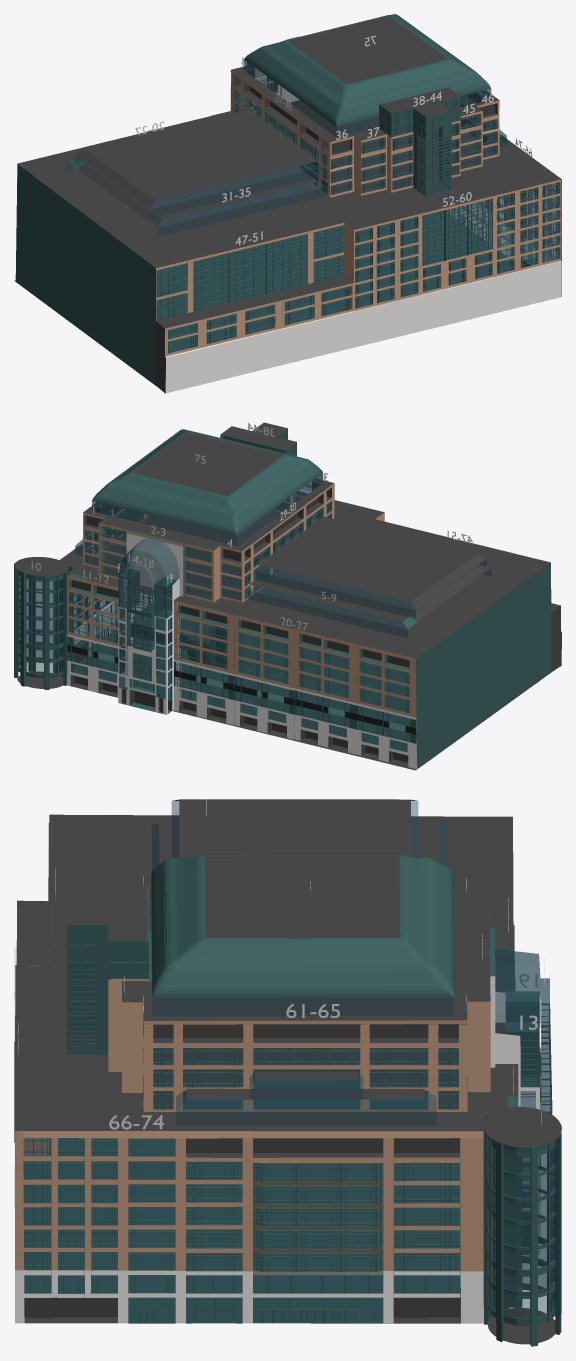
Rendered from 135Bishopsgate.glb.
3 views of the same model, one above another, from view 1: azimuth 30°, elevation 25°; view 2: azimuth 150°, elevation 25°; view 3: azimuth 270°, elevation 25° (orthographic). The views are drawn at different scales.
Parts seen in each view (by area): view 1: Cube.001, Drop75, Drop50, Drop49, Drop48, Drop51, Drop47, Drop34, Drop35, Drop32, Drop31, Drop33 (+13 smaller); view 2: Cube.001, Drop75, Drop10, Drop27, Drop25, Drop23, Drop21, Drop5, Drop12, Drop9, Drop26, Drop11 (+13 smaller); view 3: Cube.001, Drop65, Drop10, Drop75, Drop74, Drop69, Drop70, Drop62, Drop72, Drop71, Drop73, Drop68 (+5 smaller).
Boxes of the visible parts, x1=… form: Cube.001: x1=14, y1=14, x2=561, y2=393; Drop75: x1=243, y1=59, x2=491, y2=137; Drop50: x1=268, y1=234, x2=312, y2=324; Drop49: x1=230, y1=244, x2=274, y2=333; Drop48: x1=193, y1=253, x2=235, y2=343; Drop51: x1=314, y1=225, x2=351, y2=315; Drop47: x1=156, y1=263, x2=197, y2=352; Drop34: x1=248, y1=170, x2=291, y2=212; Drop35: x1=283, y1=163, x2=327, y2=203; Drop32: x1=183, y1=186, x2=224, y2=228; Drop31: x1=150, y1=194, x2=190, y2=236; Drop33: x1=216, y1=178, x2=256, y2=220; Cube.001: x1=14, y1=422, x2=561, y2=770; Drop75: x1=92, y1=473, x2=323, y2=545; Drop10: x1=19, y1=576, x2=62, y2=673; Drop27: x1=384, y1=667, x2=409, y2=751; Drop25: x1=324, y1=653, x2=349, y2=737; Drop23: x1=263, y1=638, x2=288, y2=722; Drop21: x1=202, y1=624, x2=227, y2=707; Drop5: x1=248, y1=567, x2=295, y2=608; Drop12: x1=93, y1=598, x2=117, y2=682; Drop9: x1=371, y1=595, x2=415, y2=637; Drop26: x1=357, y1=661, x2=382, y2=744; Drop11: x1=68, y1=592, x2=91, y2=675; Cube.001: x1=14, y1=799, x2=561, y2=1346; Drop65: x1=176, y1=1089, x2=436, y2=1125; Drop10: x1=488, y1=1141, x2=554, y2=1318; Drop75: x1=151, y1=876, x2=454, y2=1015; Drop74: x1=394, y1=1163, x2=459, y2=1292; Drop69: x1=128, y1=1138, x2=175, y2=1292; Drop70: x1=186, y1=1162, x2=242, y2=1292; Drop62: x1=183, y1=1048, x2=427, y2=1086; Drop72: x1=292, y1=1164, x2=343, y2=1292; Drop71: x1=253, y1=1163, x2=294, y2=1292; Drop73: x1=342, y1=1163, x2=382, y2=1292; Drop68: x1=91, y1=1138, x2=117, y2=1292.
Bounding box in the file's own units: 614 × 301 × 417.
